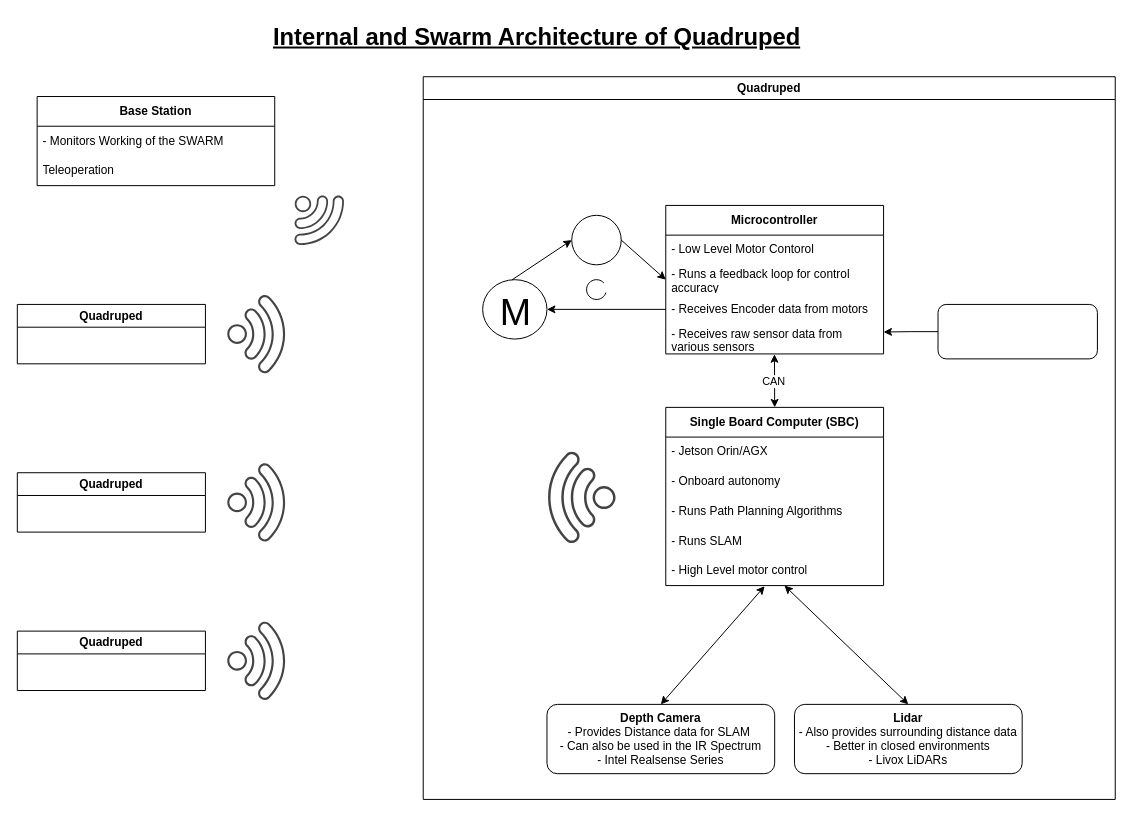
Some shapes in this 1133 by 817 pixel diagram are drawn without their labels. The centre of each missing label's shape, as x and y in pixels:
"Encoder" goes at (x=596, y=239).
"Sensors - Raw analog values - Needs Filtration" goes at (x=1017, y=331).
